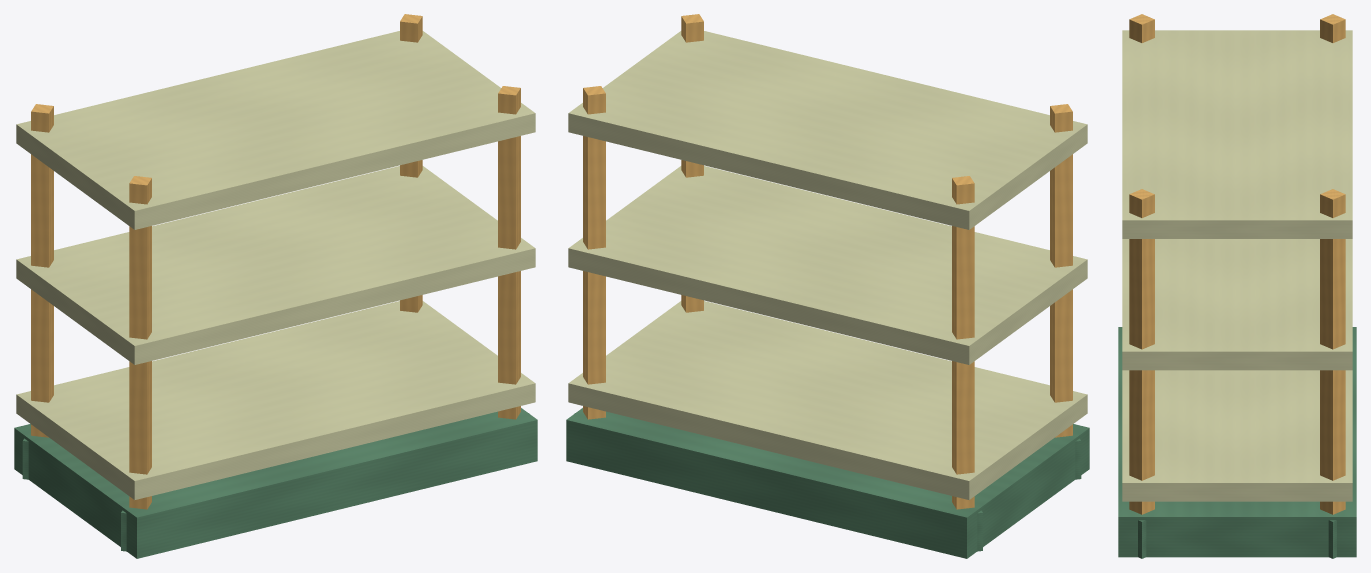
The model's file is atlas100-s005-a06.lod2.glb.
The picture shows the model from 3 angles, left to right: view 1: azimuth 30°, elevation 25°; view 2: azimuth 150°, elevation 25°; view 3: azimuth 270°, elevation 25°; orthographic projection. The views are drawn at different scales.
Visible parts, largest first — view 1: atlas100-s005-a06:part-013, atlas100-s005-a06:part-012, atlas100-s005-a06:part-011, atlas100-s005-a06:part-000, atlas100-s005-a06:part-005, atlas100-s005-a06:part-009, atlas100-s005-a06:part-003, atlas100-s005-a06:part-007; view 2: atlas100-s005-a06:part-013, atlas100-s005-a06:part-012, atlas100-s005-a06:part-011, atlas100-s005-a06:part-000, atlas100-s005-a06:part-003, atlas100-s005-a06:part-007, atlas100-s005-a06:part-005, atlas100-s005-a06:part-009; view 3: atlas100-s005-a06:part-013, atlas100-s005-a06:part-012, atlas100-s005-a06:part-011, atlas100-s005-a06:part-000, atlas100-s005-a06:part-007, atlas100-s005-a06:part-009, atlas100-s005-a06:part-003, atlas100-s005-a06:part-005, atlas100-s005-a06:part-008, atlas100-s005-a06:part-010.
Part boxes in pixels (x1=…): atlas100-s005-a06:part-013: x1=16, y1=31, x2=535, y2=229; atlas100-s005-a06:part-012: x1=16, y1=166, x2=535, y2=364; atlas100-s005-a06:part-011: x1=16, y1=301, x2=535, y2=499; atlas100-s005-a06:part-000: x1=14, y1=408, x2=537, y2=558; atlas100-s005-a06:part-005: x1=129, y1=176, x2=151, y2=509; atlas100-s005-a06:part-009: x1=498, y1=86, x2=520, y2=419; atlas100-s005-a06:part-003: x1=31, y1=104, x2=53, y2=437; atlas100-s005-a06:part-007: x1=400, y1=14, x2=422, y2=312; atlas100-s005-a06:part-013: x1=568, y1=31, x2=1087, y2=229; atlas100-s005-a06:part-012: x1=568, y1=166, x2=1087, y2=364; atlas100-s005-a06:part-011: x1=568, y1=301, x2=1087, y2=499; atlas100-s005-a06:part-000: x1=566, y1=408, x2=1089, y2=558; atlas100-s005-a06:part-003: x1=952, y1=176, x2=974, y2=509; atlas100-s005-a06:part-007: x1=583, y1=86, x2=605, y2=419; atlas100-s005-a06:part-005: x1=1050, y1=104, x2=1072, y2=437; atlas100-s005-a06:part-009: x1=681, y1=14, x2=703, y2=312; atlas100-s005-a06:part-013: x1=1122, y1=30, x2=1352, y2=238; atlas100-s005-a06:part-012: x1=1122, y1=239, x2=1352, y2=370; atlas100-s005-a06:part-011: x1=1122, y1=370, x2=1352, y2=501; atlas100-s005-a06:part-000: x1=1118, y1=327, x2=1356, y2=557; atlas100-s005-a06:part-007: x1=1320, y1=189, x2=1345, y2=514; atlas100-s005-a06:part-009: x1=1129, y1=189, x2=1154, y2=514; atlas100-s005-a06:part-003: x1=1320, y1=14, x2=1345, y2=42; atlas100-s005-a06:part-005: x1=1129, y1=14, x2=1154, y2=42; atlas100-s005-a06:part-008: x1=1328, y1=520, x2=1336, y2=558; atlas100-s005-a06:part-010: x1=1138, y1=520, x2=1146, y2=558.
Size of the model in its own units: 2.69 by 2.3 by 1.4.
3 materials, 3 textured.
